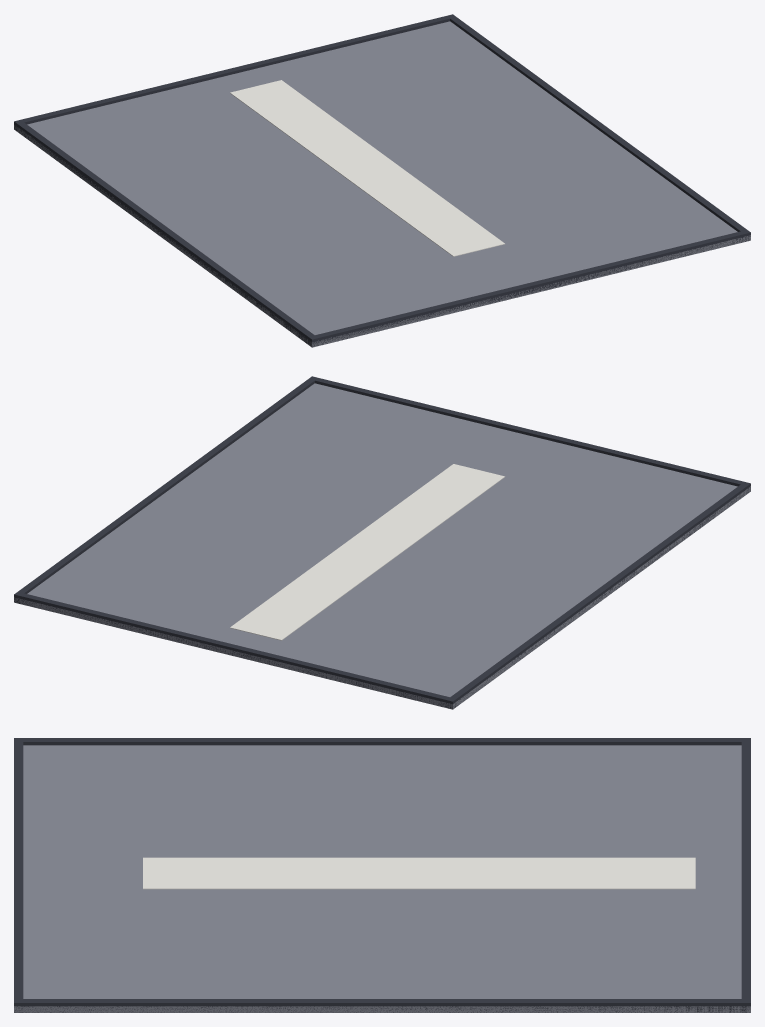
File: mdl_plot_suelo.fbx
The picture shows the model from 3 angles, top to bottom: view 1: azimuth 30°, elevation 25°; view 2: azimuth 150°, elevation 25°; view 3: azimuth 270°, elevation 25°; orthographic projection. The views are drawn at different scales.
Parts seen in each view (by area): view 1: mdl_plot_suelo; view 2: mdl_plot_suelo; view 3: mdl_plot_suelo.
Boxes of the visible parts, x1,y1,x2,y2 form: mdl_plot_suelo: (14,14,750,347); mdl_plot_suelo: (14,376,750,709); mdl_plot_suelo: (14,738,750,1012).
Size of the model in its own units: 3400 by 60.5 by 4000.
